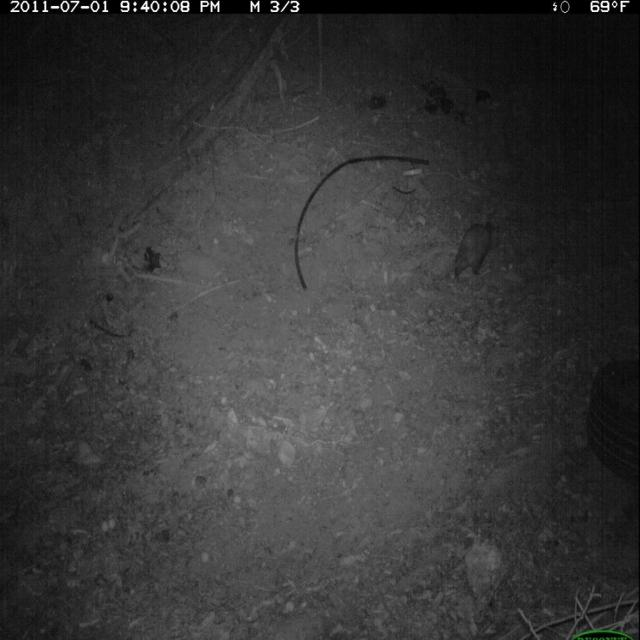opossum: (436, 215, 505, 289)
